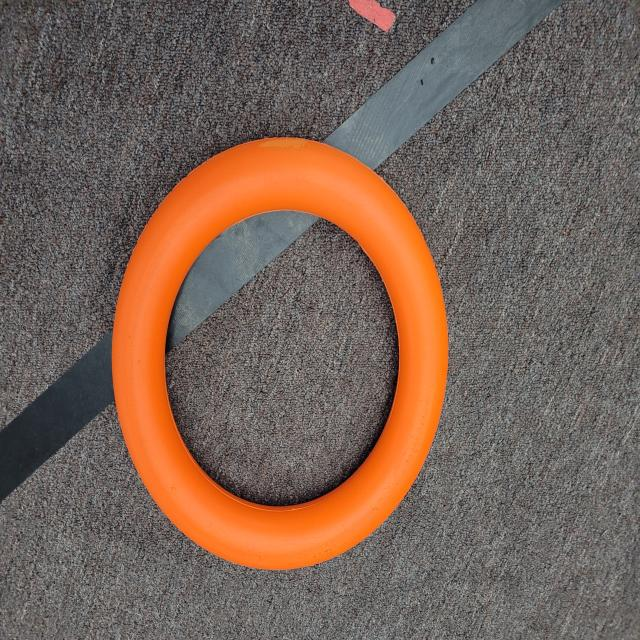note: (113, 128, 458, 594)
